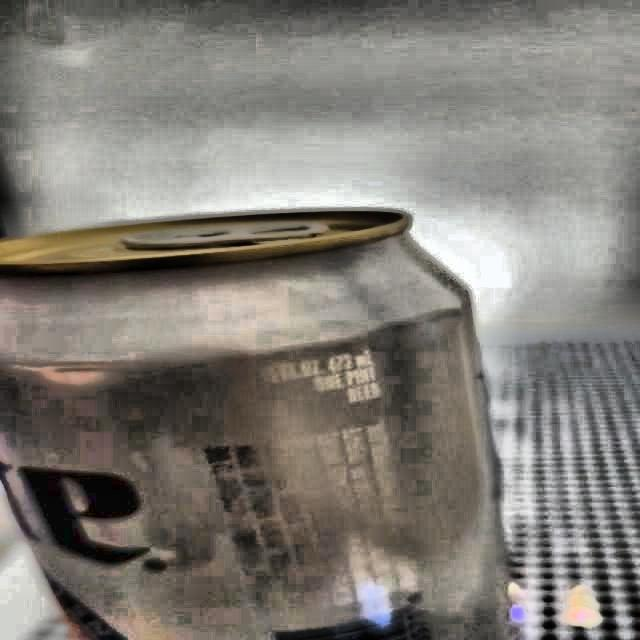litter: (0, 208, 539, 640)
